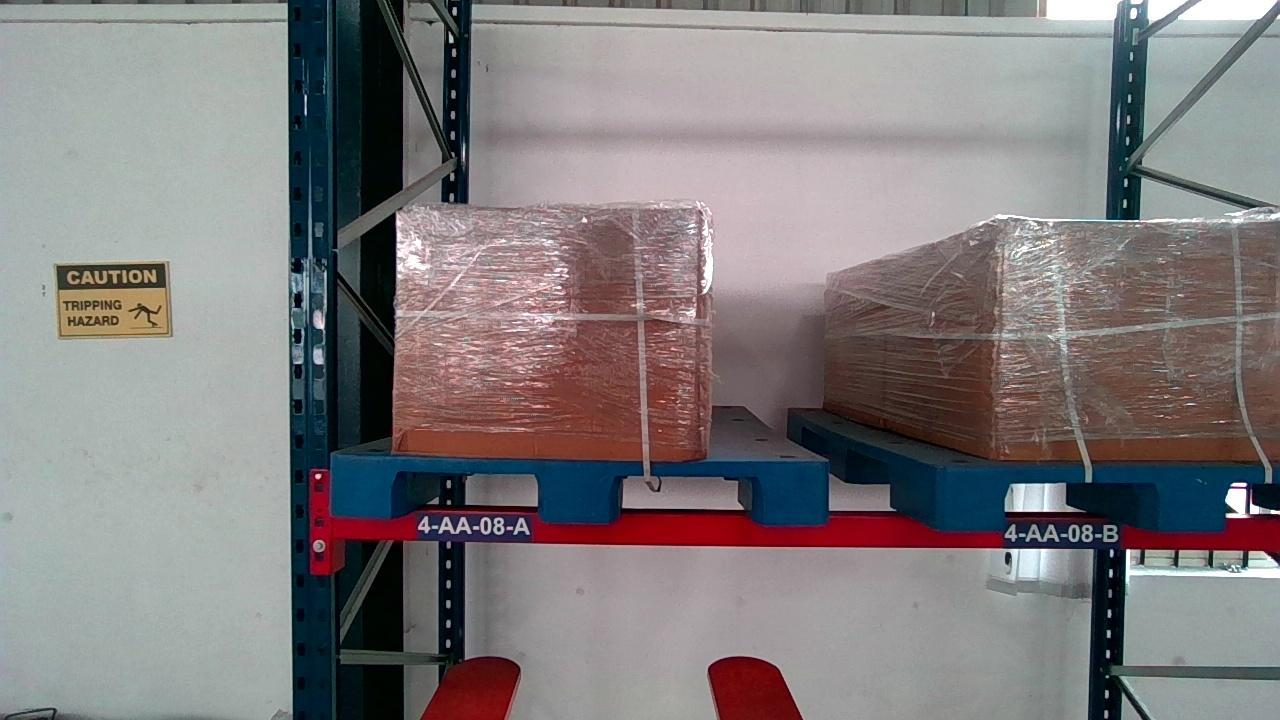h_rack: (334, 514, 1280, 547)
small_pallet: (325, 454, 829, 522), (937, 470, 1280, 531)
